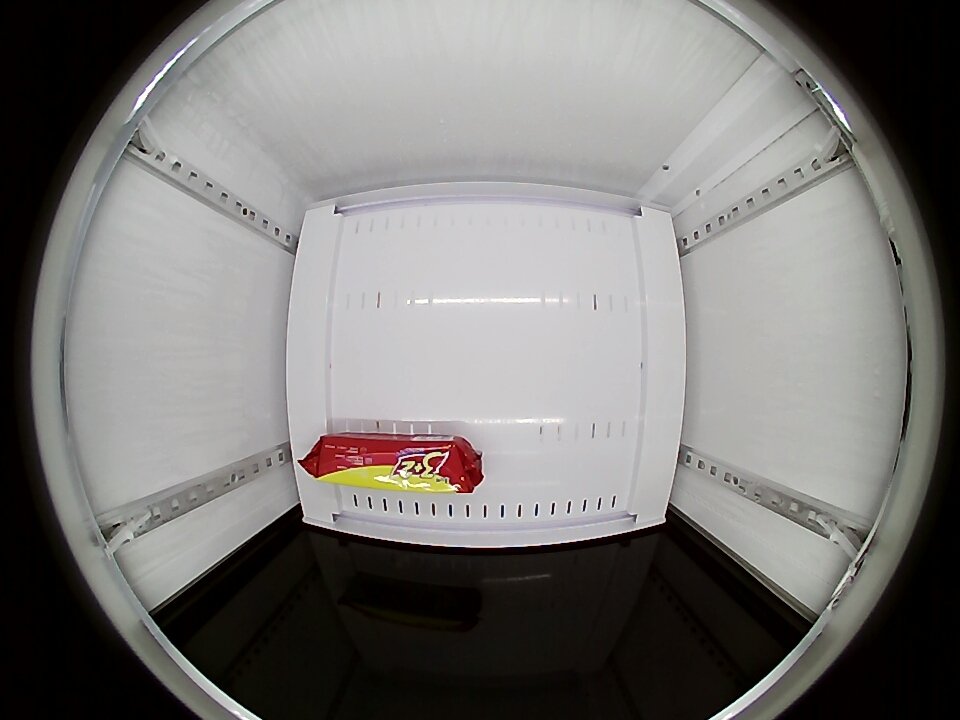3jia2: (308, 433, 476, 494)
